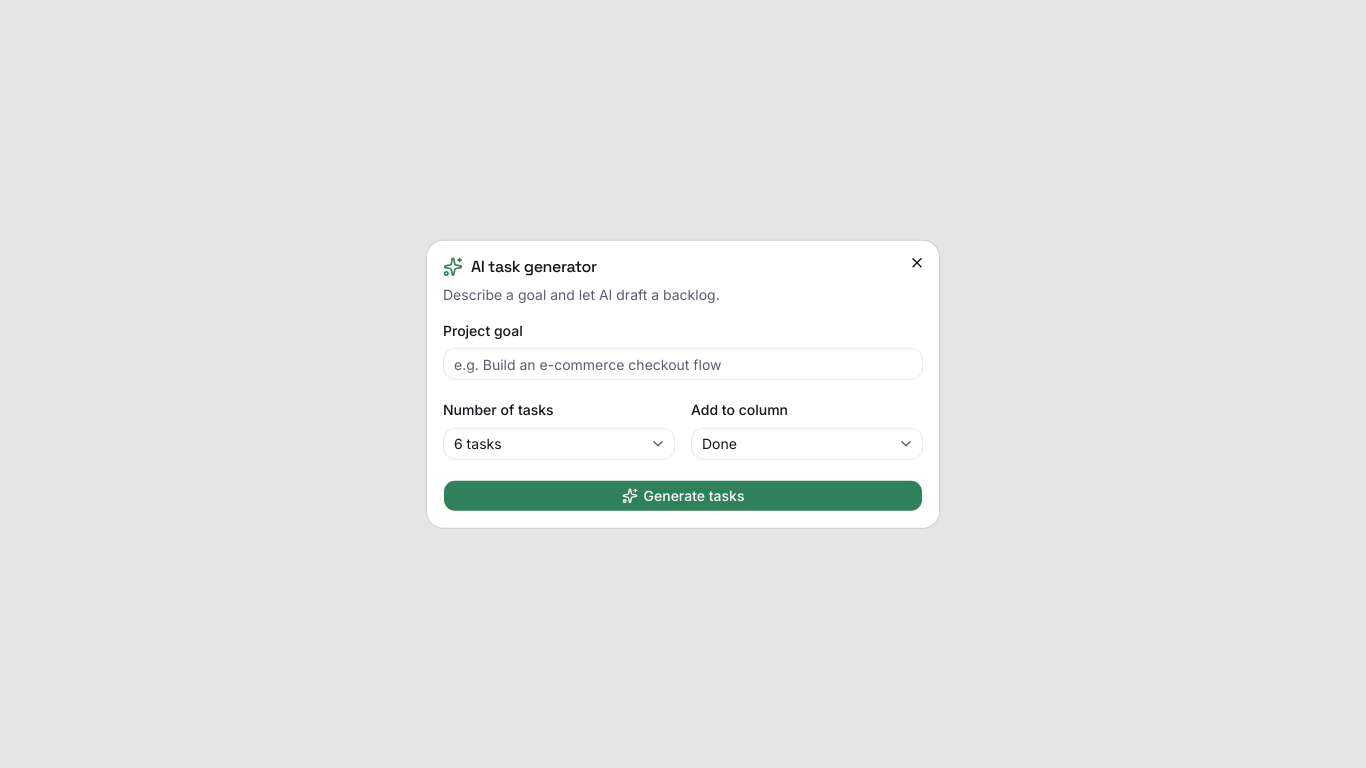
Scenario: AiGenerateDialog › shows what was drafted without saving anything
Type "  Build checkout " into the field labelled "Project goal" at (683, 364), box [443,348,923,380]
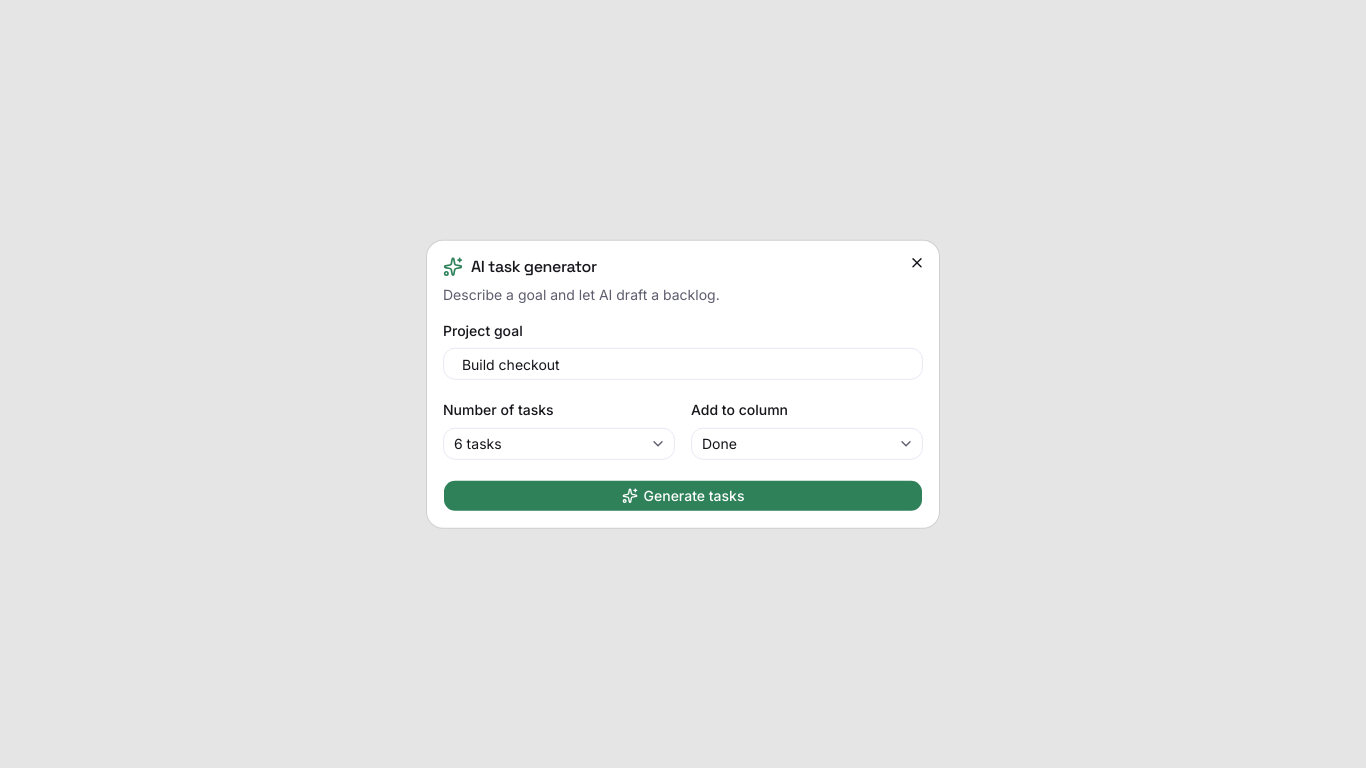
Click the button "Generate tasks" at (683, 495), box [443,479,923,511]
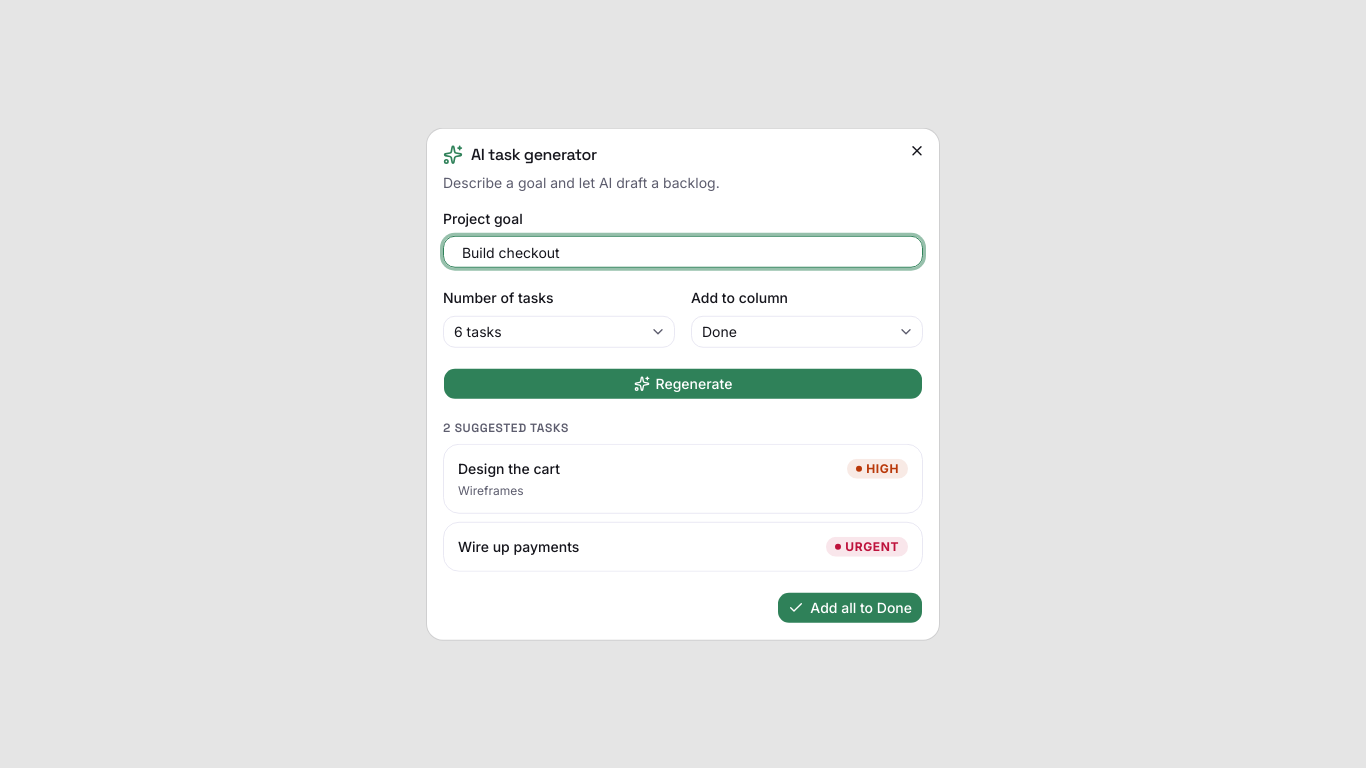
Check: the text "Design the cart" is shown, box [458,458,560,478]
